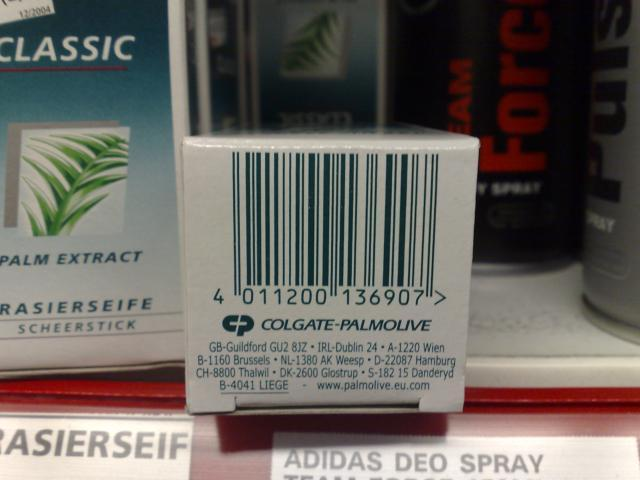Barcode: (203, 145, 440, 313)
